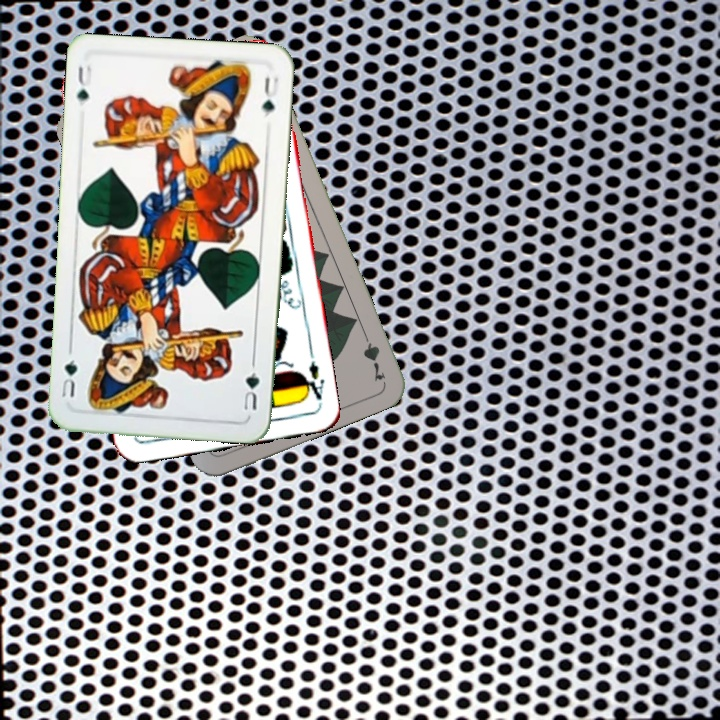EA: (298, 356, 327, 402)
G7: (358, 326, 389, 384)
GU: (240, 358, 262, 413), (72, 60, 95, 108)
